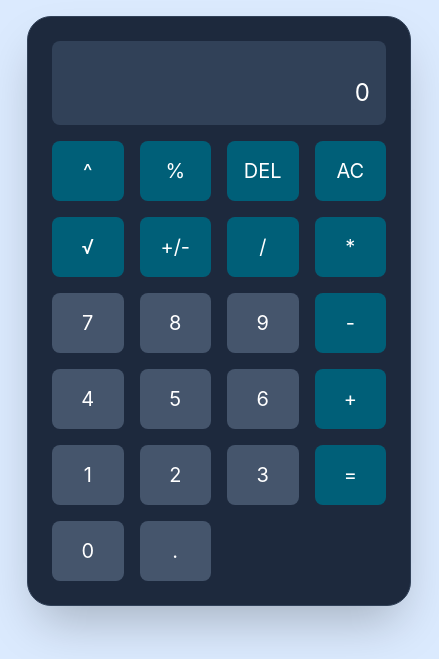
Test case: App › supports unary operators without sending a second operand
Step 1. Click the button "9" → (263, 323), box [227,293,298,353]
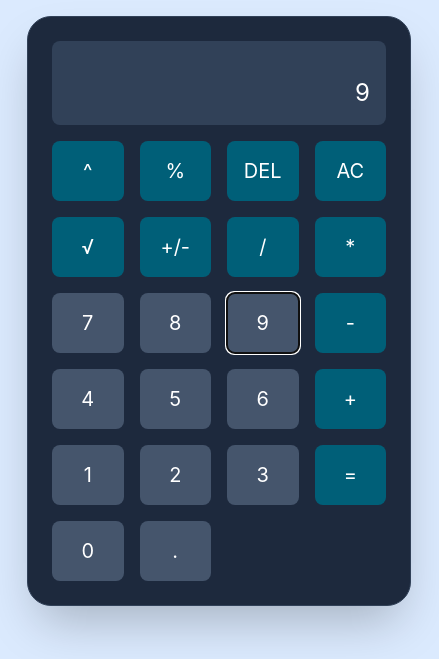
Step 2. Click the button "√" → (88, 247), box [52,217,124,277]
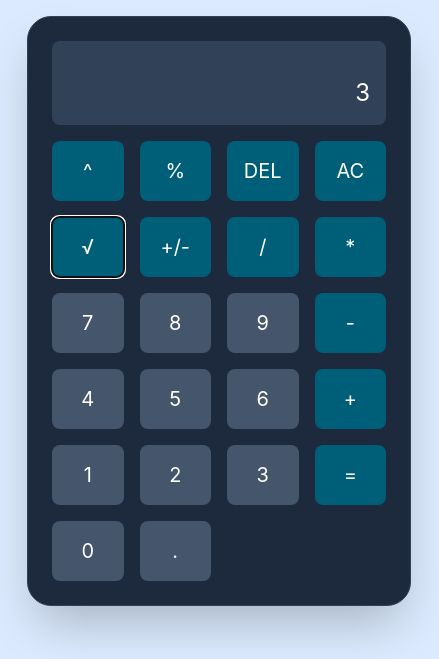
Result: the text with test id "display-value" reads "3" at [355,78,370,107]
